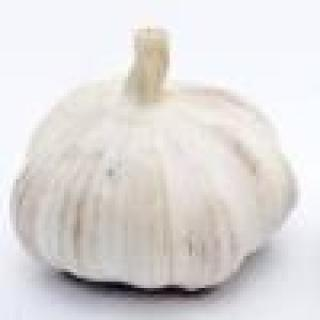Bawang Putih: (14, 24, 305, 296)
